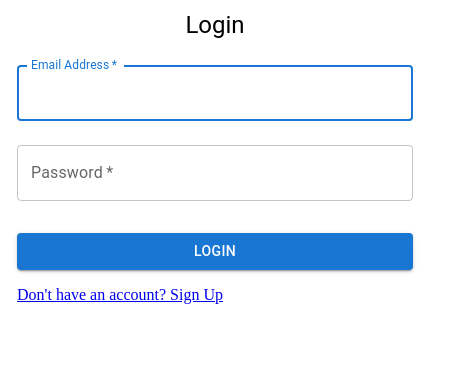
Test: LoginPage Component › displays error message if fields are empty
Click the button "Login" at {"x": 215, "y": 251}, box x1=17 y1=233 x2=413 y2=270
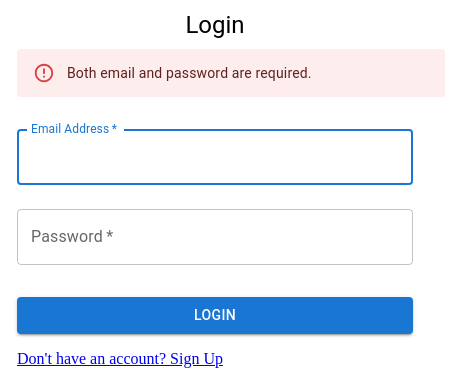
expect the text "Both email and password are required." is shown: met, box x1=67 y1=65 x2=312 y2=81
